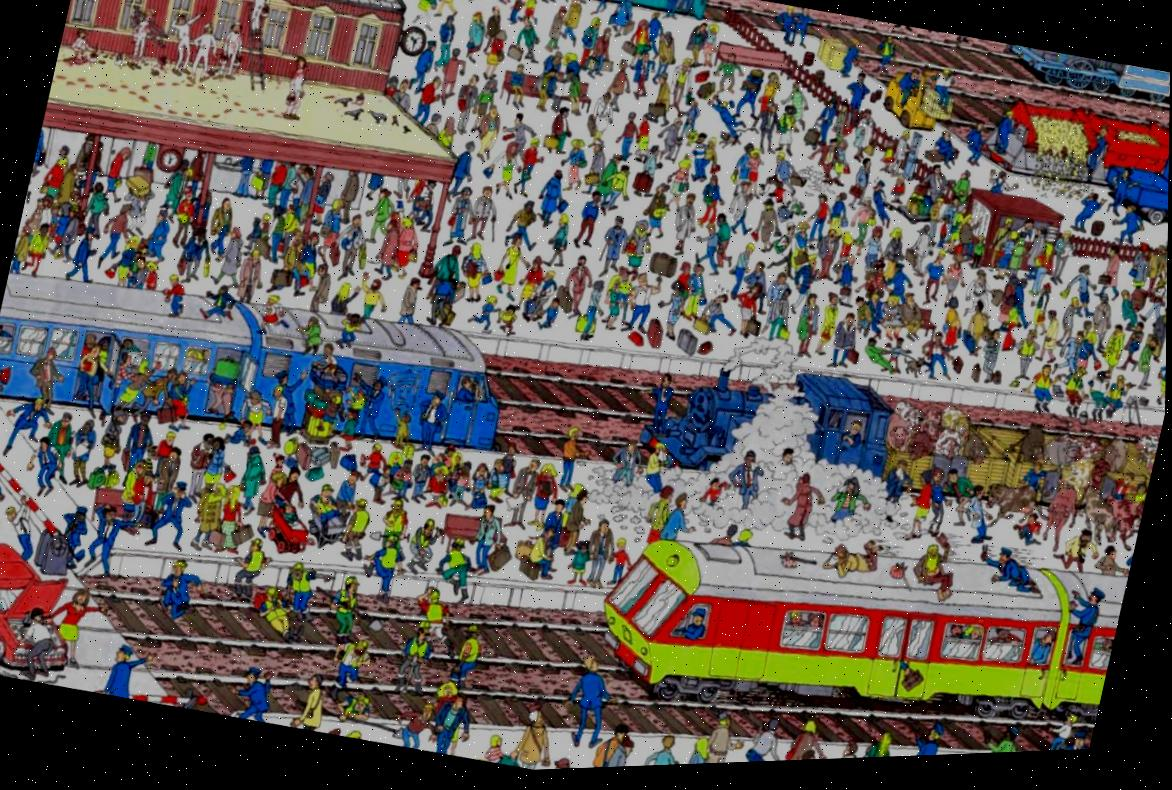waldo: (874, 266, 888, 282)
